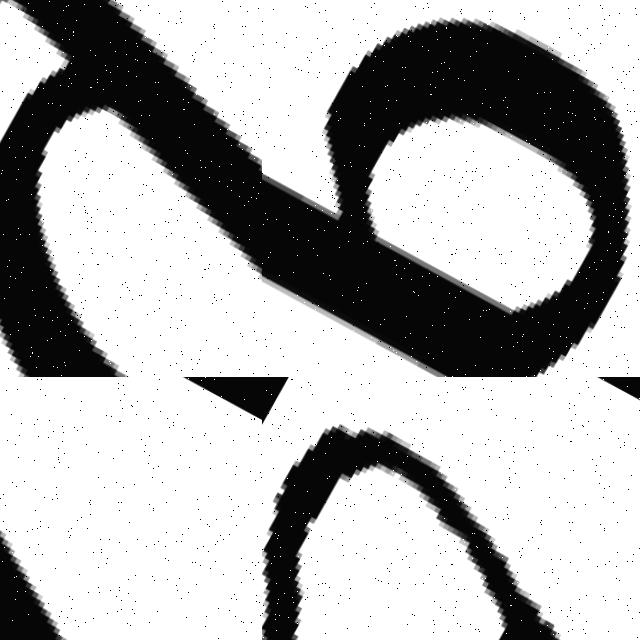E: (262, 417, 577, 640)
P: (0, 0, 262, 377)
Q: (262, 0, 640, 377)
Z: (0, 377, 262, 640)
